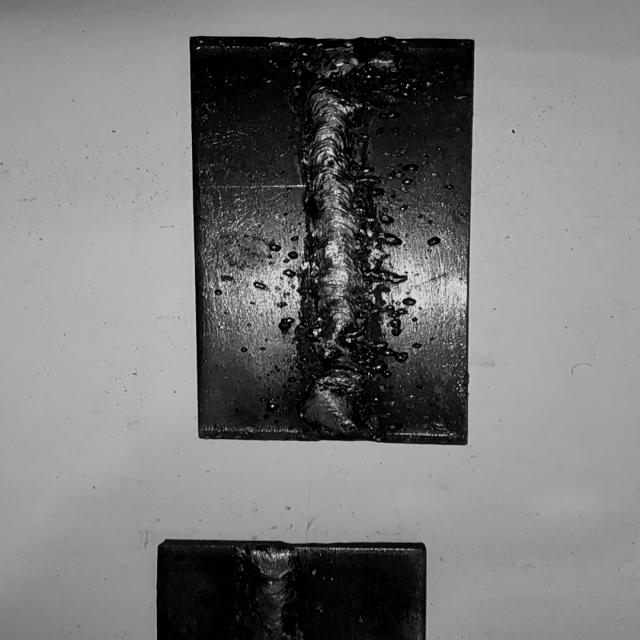Bad Weld: (293, 45, 370, 433)
Defect: (285, 41, 412, 105), (281, 326, 388, 394)
Good Weld: (248, 546, 298, 639)
